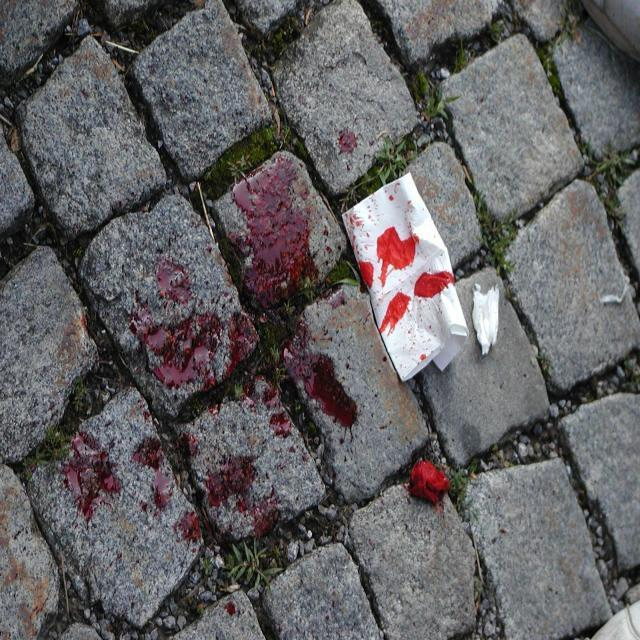flood: (132, 163, 460, 530)
